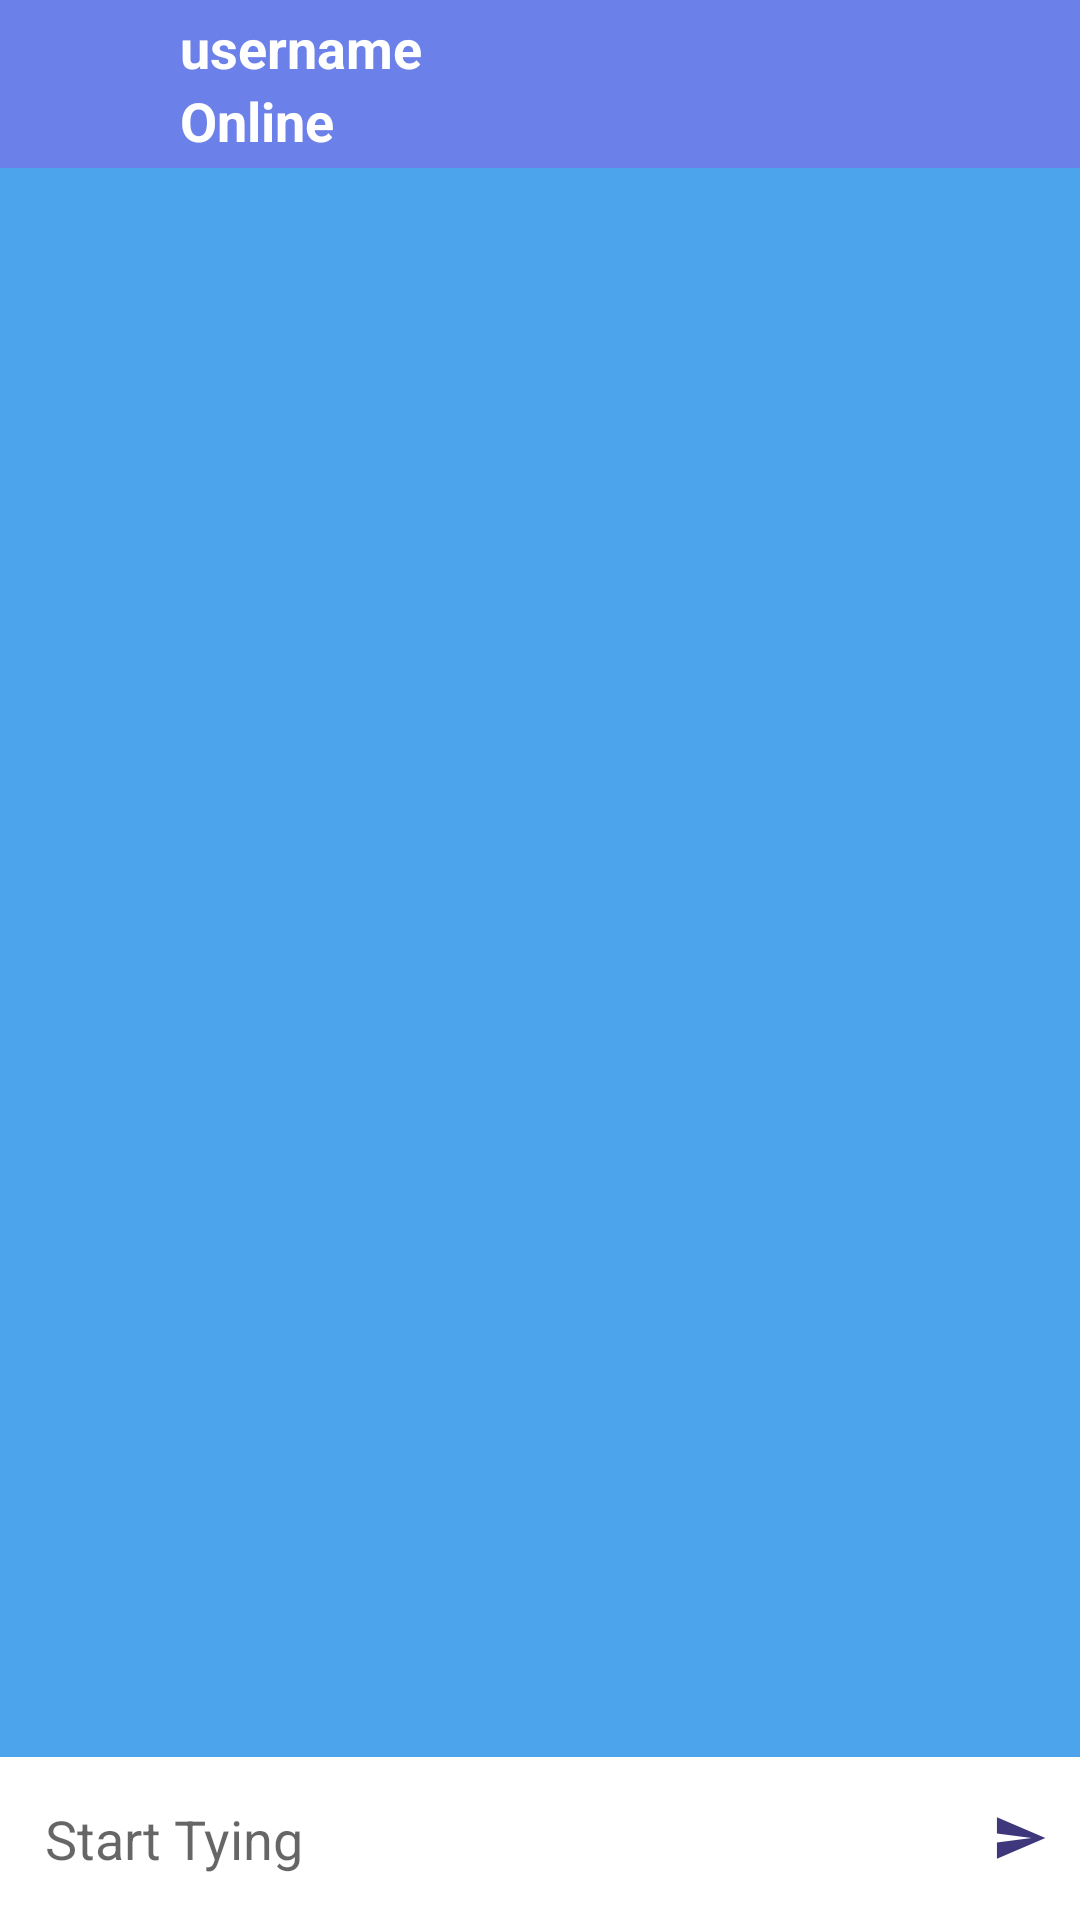

Icon bounding boxes for this 1080*1920 phone screenshot, format (x1, y1, x2, y2):
send: (997, 1817, 1045, 1859)
